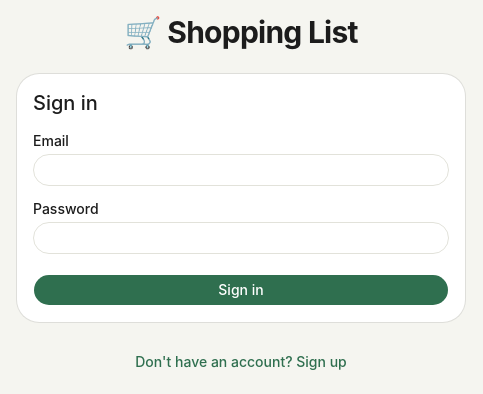
Test: AuthScreen › toggles to sign-up mode
Click the button "Don't have an account? Sign up" at (241, 362), box x1=124 y1=346 x2=358 y2=378
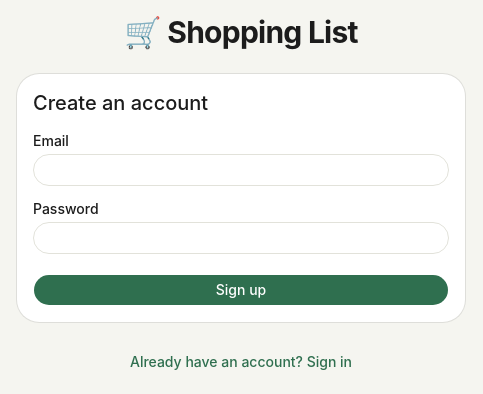
Expected: the heading "Create an account" is shown, x1=33 y1=91 x2=208 y2=115
